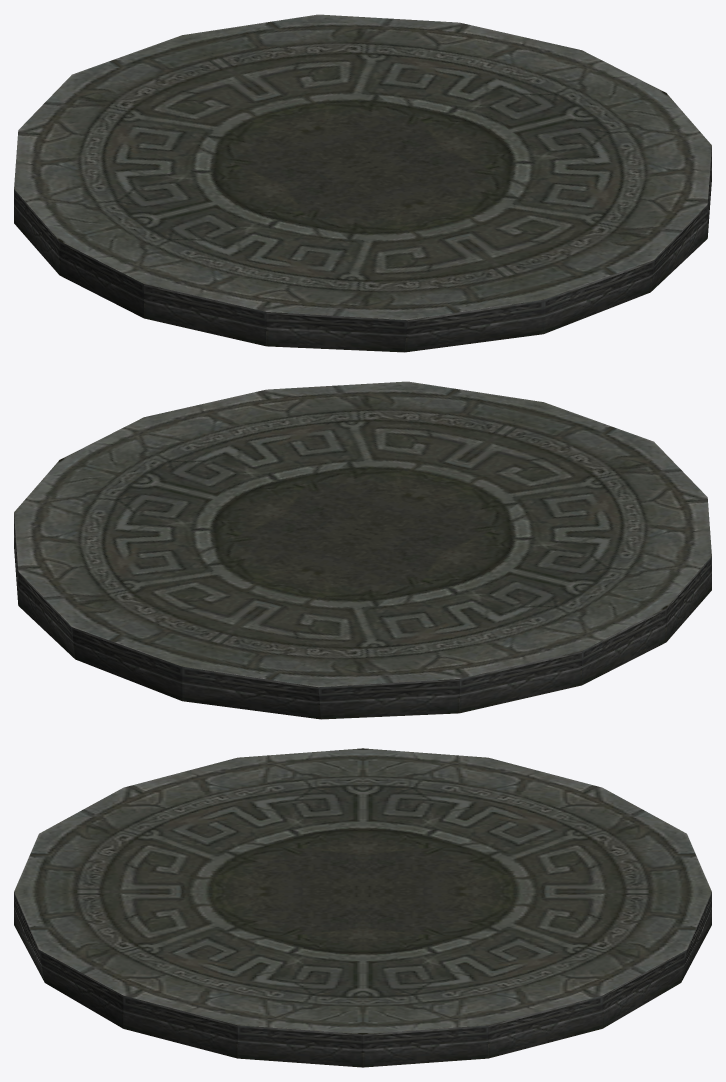
File: volcano_02_floor_01.FBX
3 renders of one model, top to bottom at view 1: azimuth 30°, elevation 25°; view 2: azimuth 150°, elevation 25°; view 3: azimuth 270°, elevation 25°, orthographic. The views are drawn at different scales.
Parts seen in each view (by area): view 1: volcano_02_floor_01; view 2: volcano_02_floor_01; view 3: volcano_02_floor_01.
Part boxes in pixels (left/top/right/bottom): volcano_02_floor_01: left=14, top=14, right=711, bottom=352; volcano_02_floor_01: left=14, top=381, right=711, bottom=719; volcano_02_floor_01: left=14, top=748, right=711, bottom=1067.
Bounding box in the file's own units: 20.59 × 1.13 × 21.24.
Materials: 1 (1 with a texture image).
